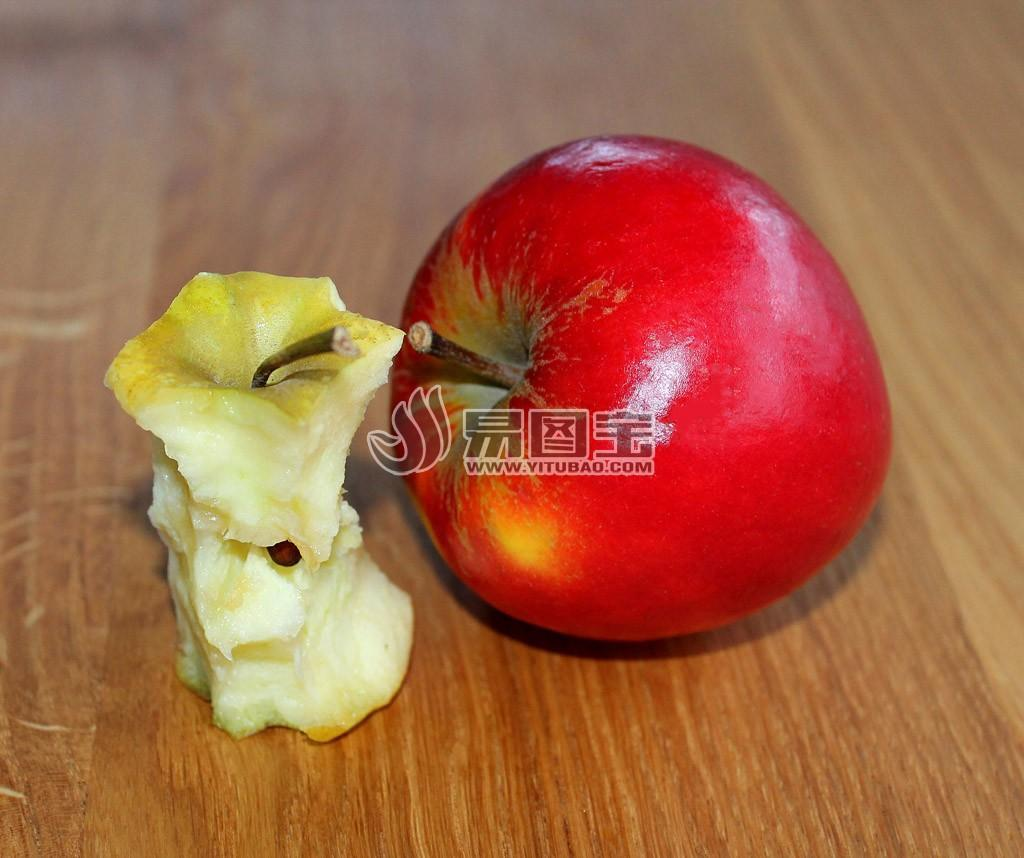apple: (372, 137, 890, 648)
